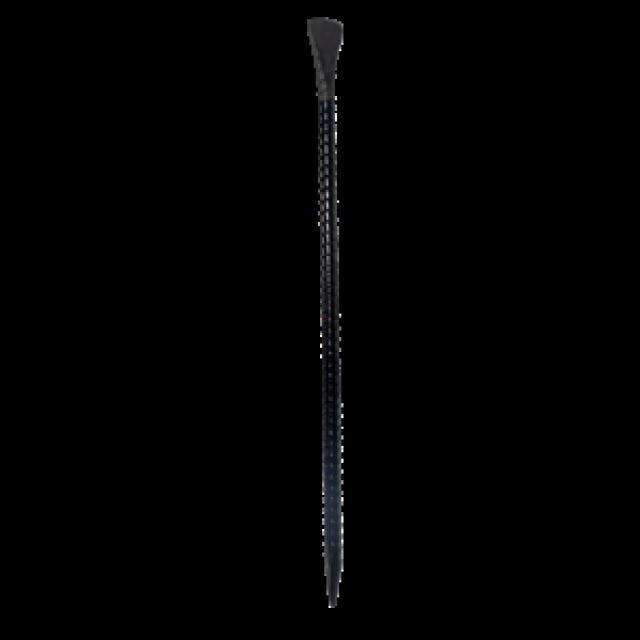Linggis: (286, 11, 383, 617)
